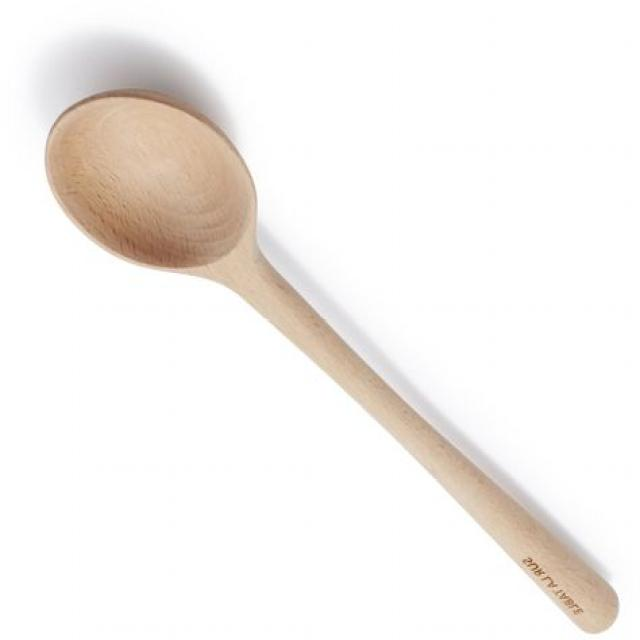spoon: (33, 67, 640, 628)
